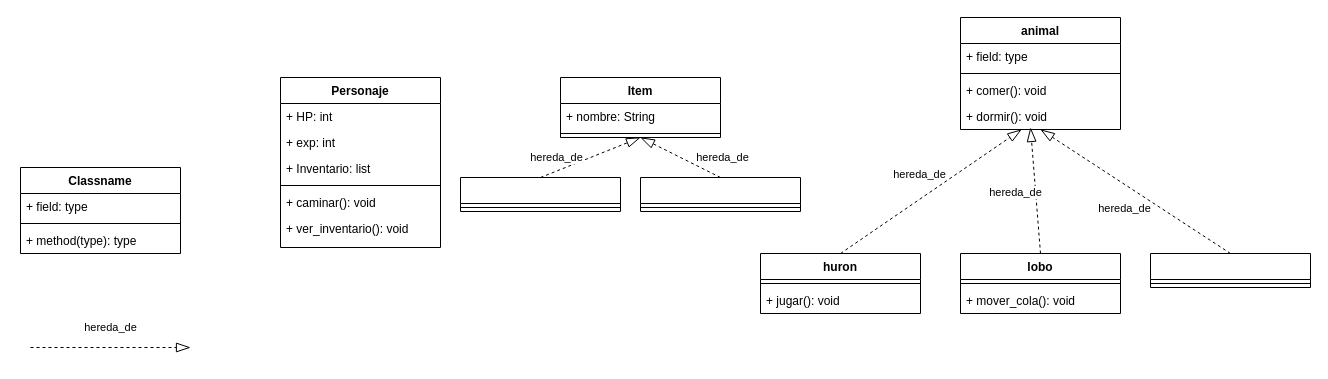
This 1328x379 diagram has some shape labels left out. Here are the shapes that lost their labels. From the top down, the centre of each, then its label:
At point 540,194: "Bloque".
At point 720,194: "Herramienta".
At point 1230,270: "zorro".
